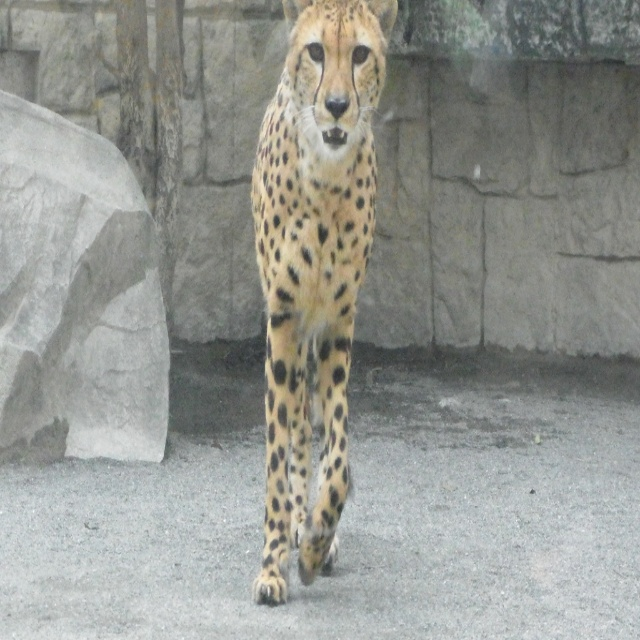Cheetah: (251, 0, 398, 600)
